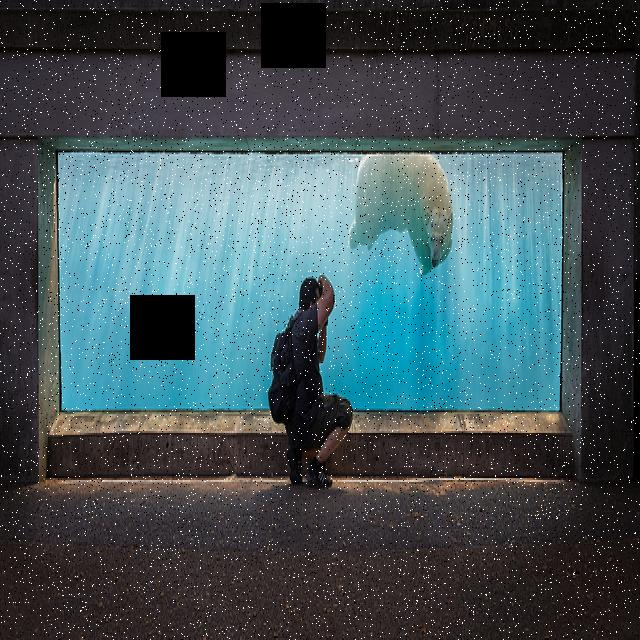Bear: (348, 149, 452, 270)
